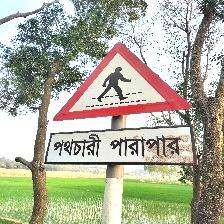Pedestrian-crossing: (46, 41, 196, 165)
